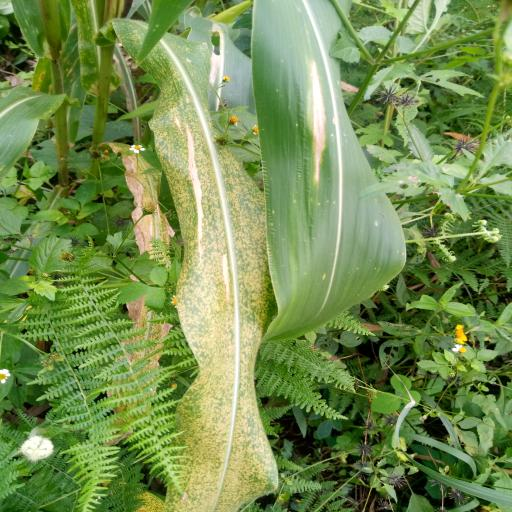Corn_Brown_Spots: (126, 21, 278, 512), (254, 0, 404, 340)
